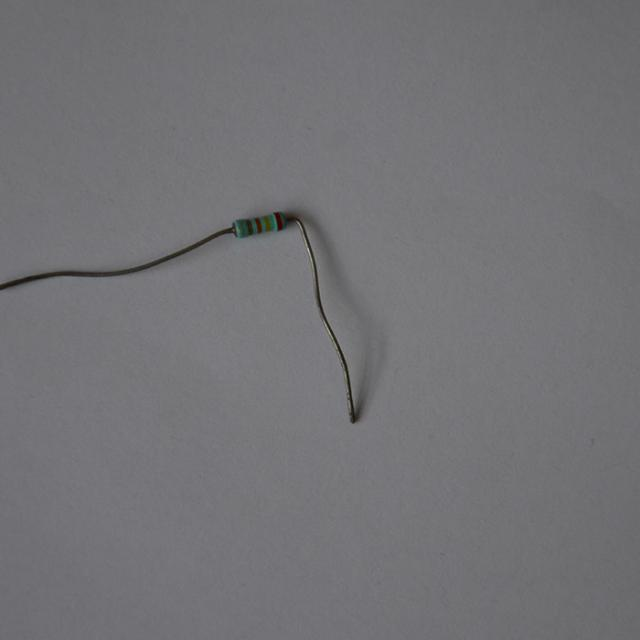gold: (247, 219, 252, 236)
orange: (256, 218, 261, 231)
red: (275, 213, 284, 229)
resistor: (223, 206, 292, 244)
yellow: (265, 216, 271, 230)
